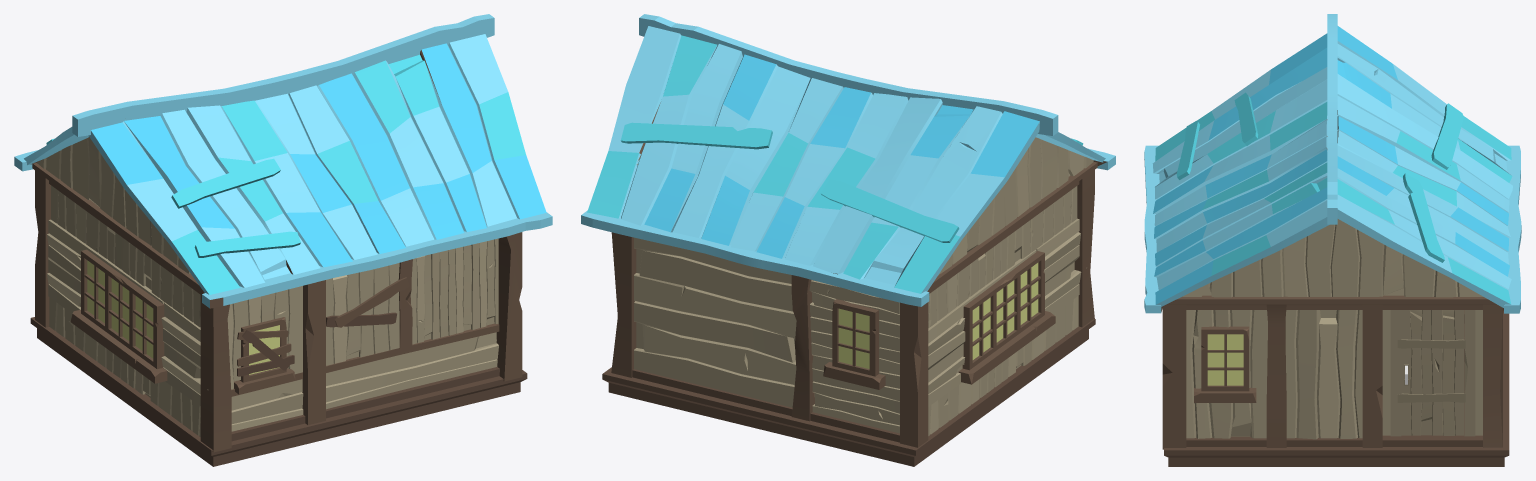
The model's file is bluecoloringhouse1.fbx.
The picture shows the model from 3 angles, left to right: view 1: azimuth 30°, elevation 25°; view 2: azimuth 150°, elevation 25°; view 3: azimuth 270°, elevation 25°; orthographic projection. The views are drawn at different scales.
Parts seen in each view (by area): view 1: House_1_Roof.013, House.011; view 2: House_1_Roof.013, House.011; view 3: House_1_Roof.013, House.011.
Boxes of the visible parts, <box> form: House_1_Roof.013: <box>14,14,552,308</box>; House.011: <box>30,170,527,466</box>; House_1_Roof.013: <box>581,14,1115,306</box>; House.011: <box>602,170,1095,466</box>; House_1_Roof.013: <box>1144,14,1521,313</box>; House.011: <box>1162,304,1509,466</box>.
Bounding box in the file's own units: 573 × 395 × 471.
